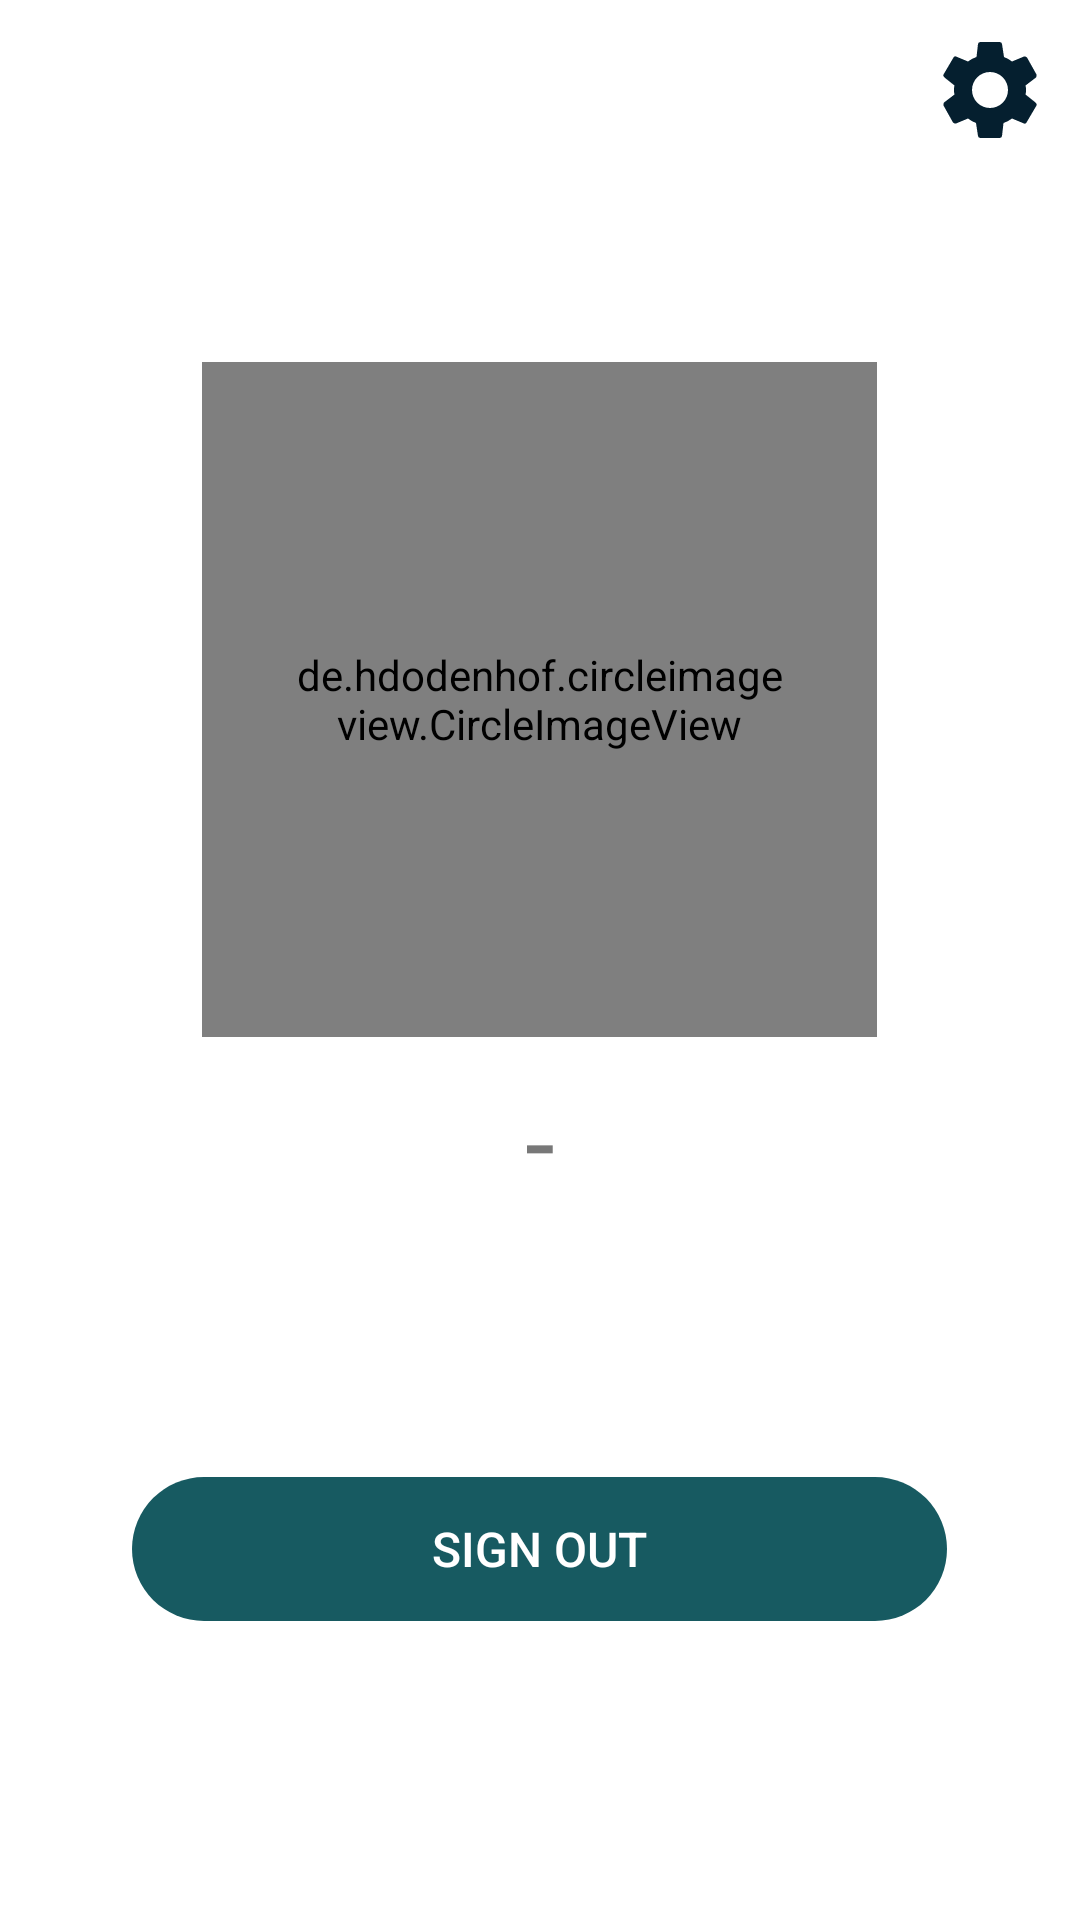

Icons on this 1080w x 1920h Android screen, each with the point to tap as [x,y]:
setting: [990,90]
